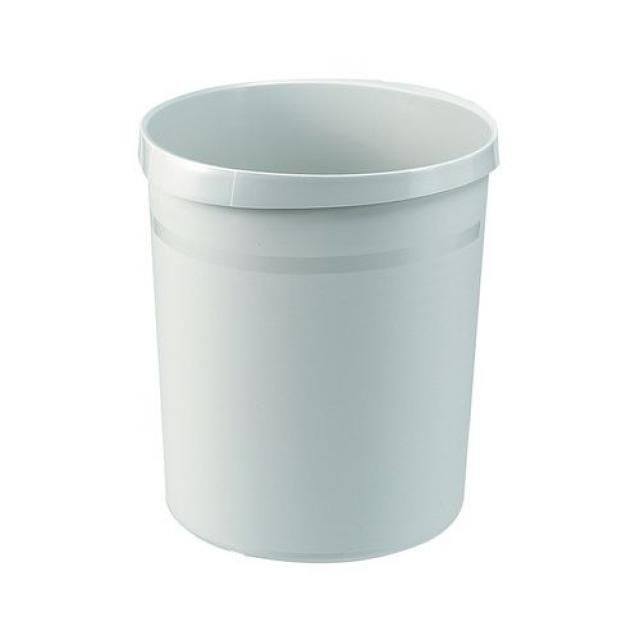Dustbin: (133, 70, 503, 566)
